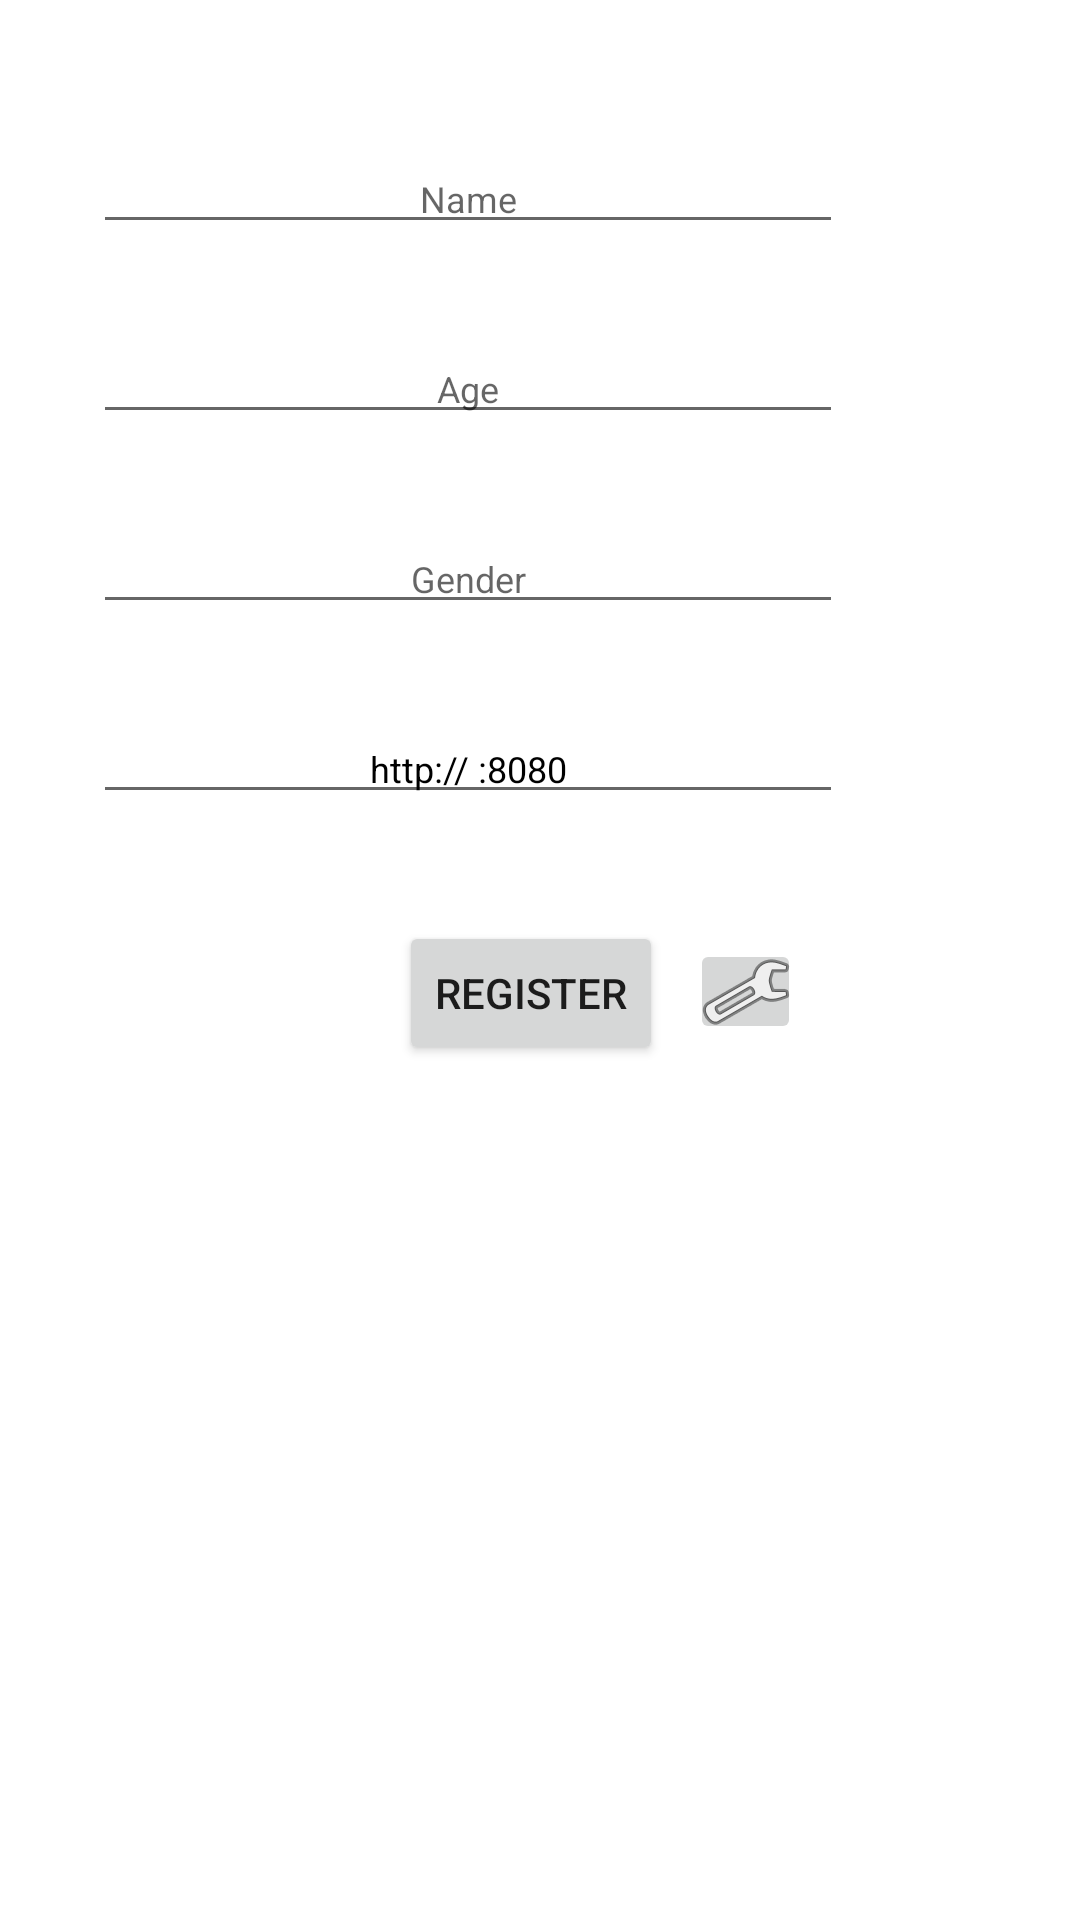

Where icons sit on this 1080×1920 app screen, as (x1, y1, x2, y2):
manage: (702, 957, 789, 1026)
